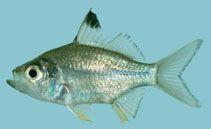Glass Perchlet: (6, 7, 202, 123)
